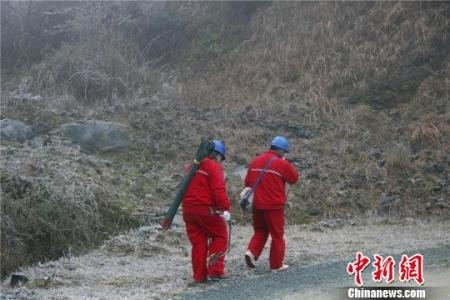blue: (204, 140, 226, 165), (269, 134, 289, 158)
